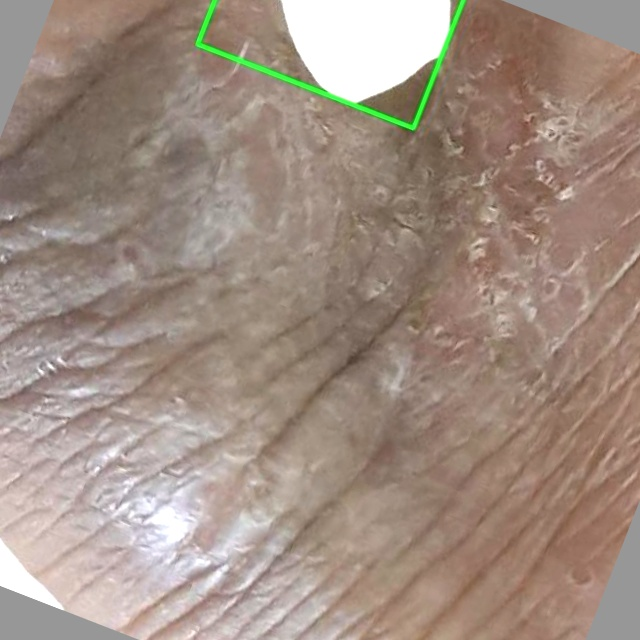Eczema: (197, 0, 463, 128)
